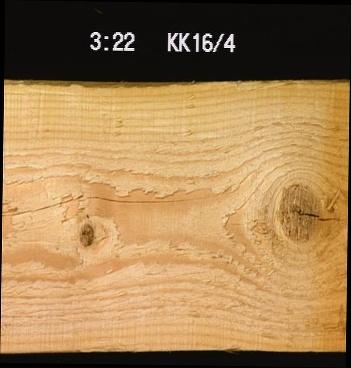sound_knot: (275, 179, 347, 248), (75, 220, 95, 248)
split: (2, 177, 243, 220)
wave: (3, 78, 276, 96)
